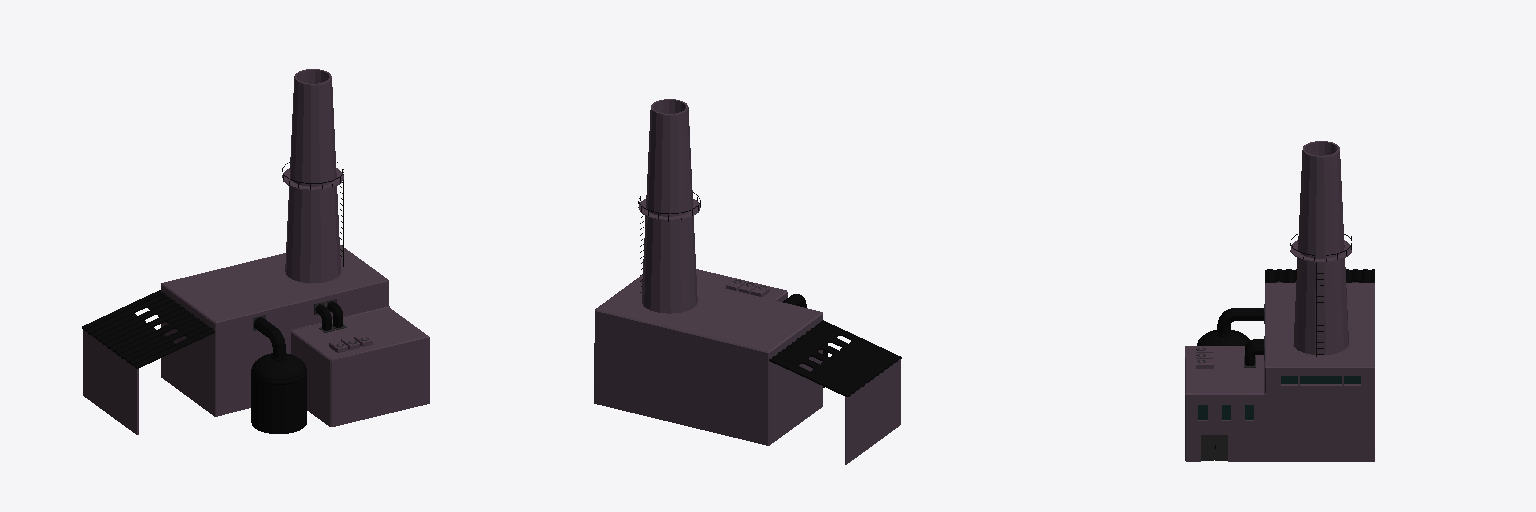
The model's file is Refineria.obj.
3 views of the same model, side by side, from view 1: azimuth 30°, elevation 25°; view 2: azimuth 150°, elevation 25°; view 3: azimuth 270°, elevation 25° (orthographic).
Parts seen in each view (by area): view 1: Refinery_Mesh.001; view 2: Refinery_Mesh.001; view 3: Refinery_Mesh.001.
Boxes of the visible parts, <box> form: Refinery_Mesh.001: <box>82,69,429,434</box>; Refinery_Mesh.001: <box>594,99,901,464</box>; Refinery_Mesh.001: <box>1185,141,1374,461</box>.
Bounding box in the file's own units: 15.24 × 16.71 × 9.9.